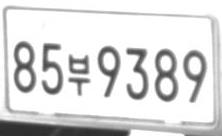3: (125, 47, 149, 100)
5: (41, 42, 63, 94)
8: (153, 48, 179, 102), (12, 40, 36, 93)
9: (96, 45, 121, 97), (183, 49, 207, 103)
부: (67, 54, 90, 96)
